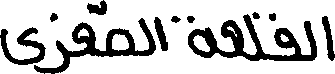ا: (319, 14, 332, 62), (154, 15, 167, 52)
ة: (170, 13, 215, 57)
ر: (44, 36, 70, 72)
ص: (104, 26, 132, 57)
ع: (220, 13, 242, 57)
غ: (70, 1, 96, 57)
ق: (255, 10, 300, 60)
ل: (242, 9, 263, 61), (138, 14, 156, 56), (304, 18, 318, 60)
ى: (0, 24, 45, 72)
